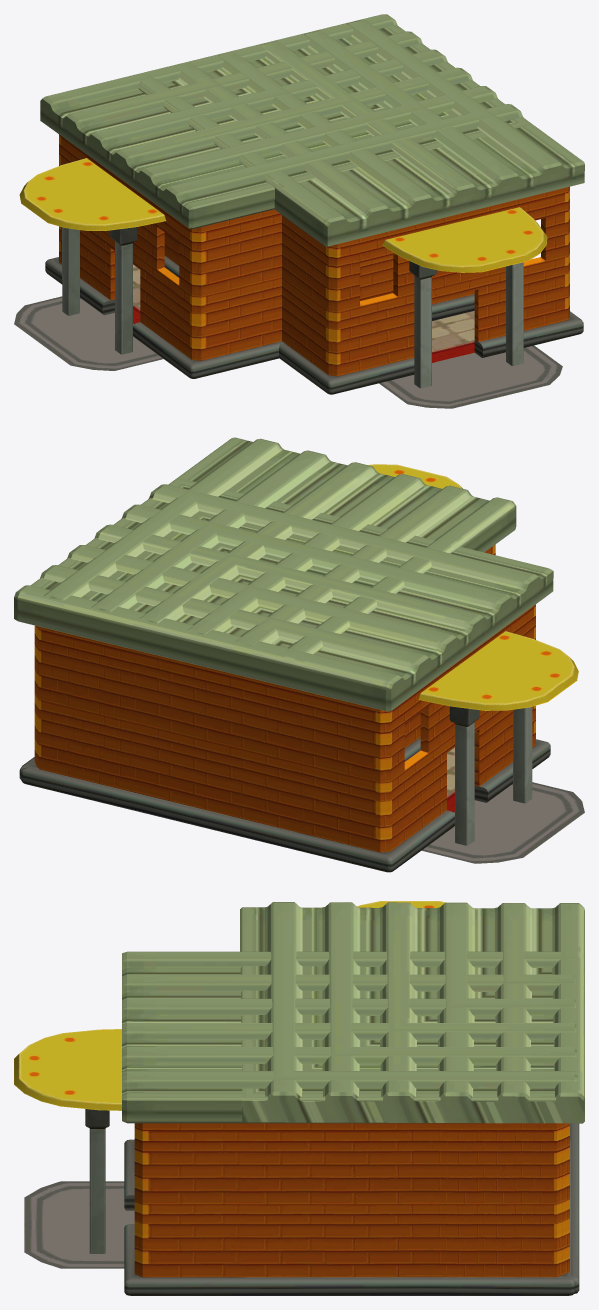
File: library_extra.glb
3 renders of one model, top to bottom at view 1: azimuth 30°, elevation 25°; view 2: azimuth 150°, elevation 25°; view 3: azimuth 270°, elevation 25°, orthographic. The views are drawn at different scales.
Visible parts, largest first — view 1: polySurface5 (×2); view 2: polySurface5 (×2); view 3: polySurface5 (×2).
Boxes of the visible parts, left/top/right/bottom form: polySurface5 (×2): left=14, top=14, right=584, bottom=408; polySurface5 (×2): left=14, top=437, right=584, bottom=872; polySurface5 (×2): left=14, top=901, right=584, bottom=1295.
Bounding box in the file's own units: 11.98 × 4.76 × 12.08.
Materials: 1 (1 with a texture image).
